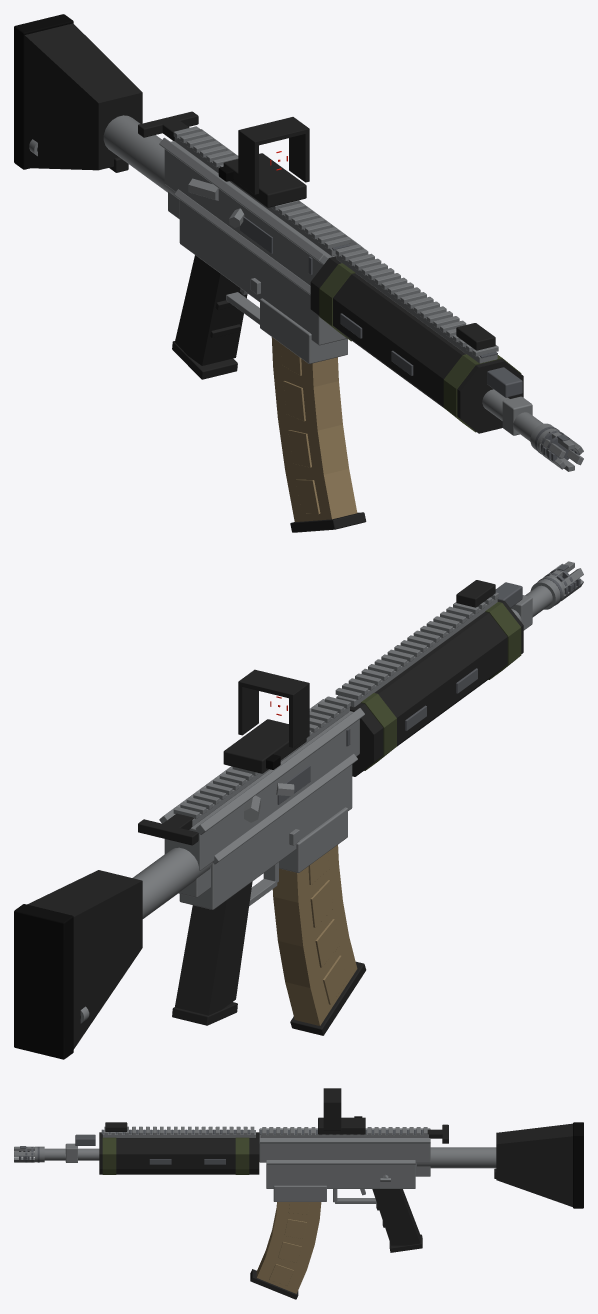
File: Sar223.obj
The picture shows the model from 3 angles, top to bottom: view 1: azimuth 30°, elevation 25°; view 2: azimuth 150°, elevation 25°; view 3: azimuth 270°, elevation 25°; orthographic projection. The views are drawn at different scales.
Parts seen in each view (by area): view 1: Body, Magazine; view 2: Body, Magazine; view 3: Body, Magazine.
Part boxes in pixels (<box>): Body: <box>14,14,583,471</box>; Magazine: <box>271,337,366,532</box>; Body: <box>14,561,583,1059</box>; Magazine: <box>272,845,366,1035</box>; Body: <box>14,1088,583,1252</box>; Magazine: <box>250,1202,321,1299</box>.
Bounding box in the file's own units: 0.0618 × 0.3244 × 0.836.
